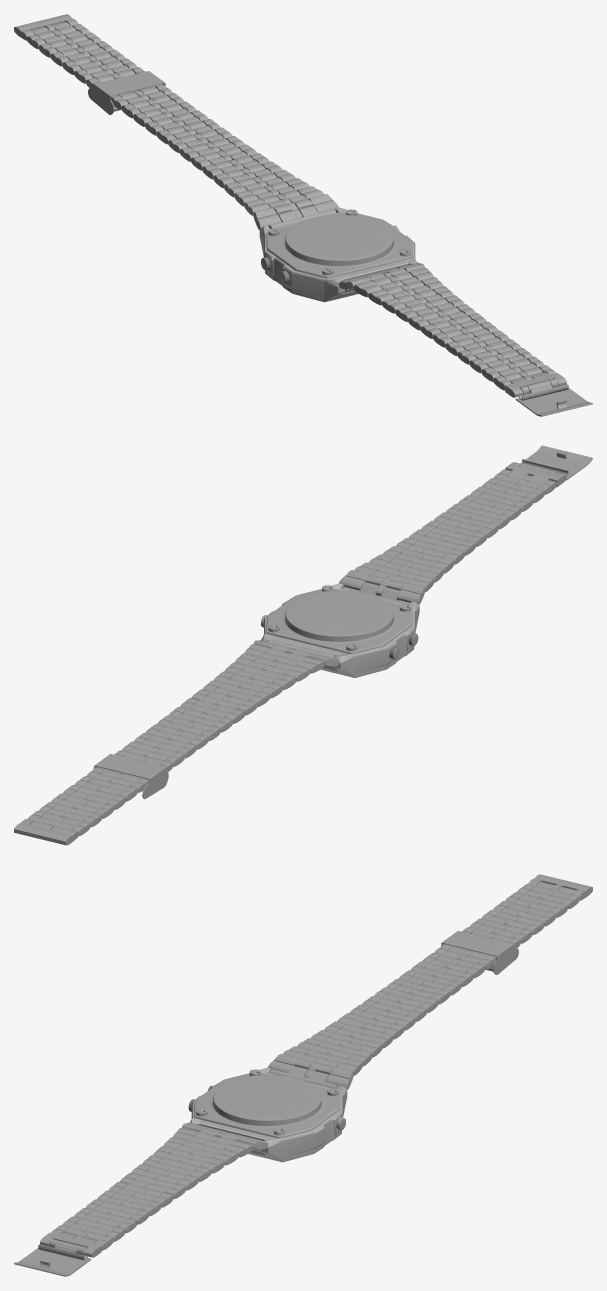
The model's file is FreeCasio_watch.obj.
The picture shows the model from 3 angles, top to bottom: view 1: azimuth 30°, elevation 25°; view 2: azimuth 150°, elevation 25°; view 3: azimuth 330°, elevation 25°; orthographic projection.
Visible parts, largest first — view 1: _6274311__12699P_casio_a159w_Casio_A159W_MAT_0_1; view 2: _6274311__12699P_casio_a159w_Casio_A159W_MAT_0_1; view 3: _6274311__12699P_casio_a159w_Casio_A159W_MAT_0_1.
Boxes of the visible parts, bbox=[...] form: _6274311__12699P_casio_a159w_Casio_A159W_MAT_0_1: bbox=[14, 14, 592, 416]; _6274311__12699P_casio_a159w_Casio_A159W_MAT_0_1: bbox=[14, 445, 592, 845]; _6274311__12699P_casio_a159w_Casio_A159W_MAT_0_1: bbox=[14, 874, 592, 1276].
Bounding box in the file's own units: 4.24 × 1 × 29.07.
1 material, 1 textured.
